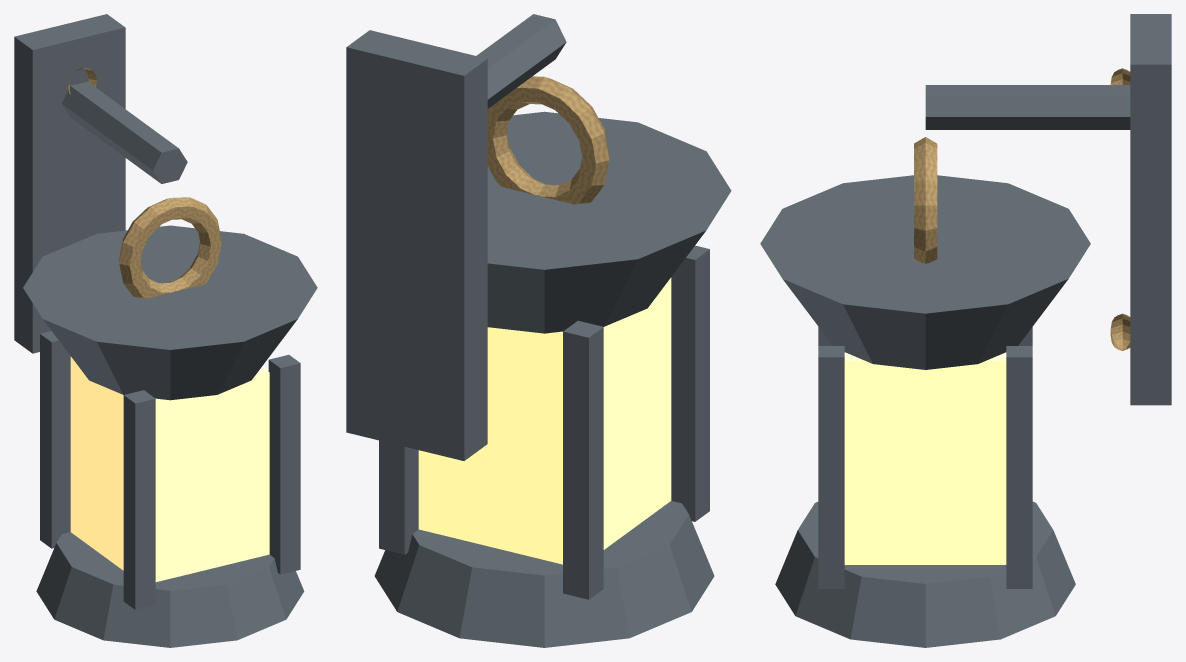
File: lantern-watch-hanging-wall-lantern.glb
3 views of the same model, side by side, from view 1: azimuth 30°, elevation 25°; view 2: azimuth 150°, elevation 25°; view 3: azimuth 270°, elevation 25° (orthographic). The views are drawn at different scales.
Parts seen in each view (by area): view 1: lantern-watch-wall-lantern; view 2: lantern-watch-wall-lantern; view 3: lantern-watch-wall-lantern.
Part boxes in pixels (x1,y1,x2,y2): lantern-watch-wall-lantern: [14, 14, 317, 647]; lantern-watch-wall-lantern: [346, 14, 731, 647]; lantern-watch-wall-lantern: [760, 14, 1171, 647].
Bounding box in the file's own units: 0.44 × 0.8 × 0.5475.
Materials: 3 (1 with a texture image).
